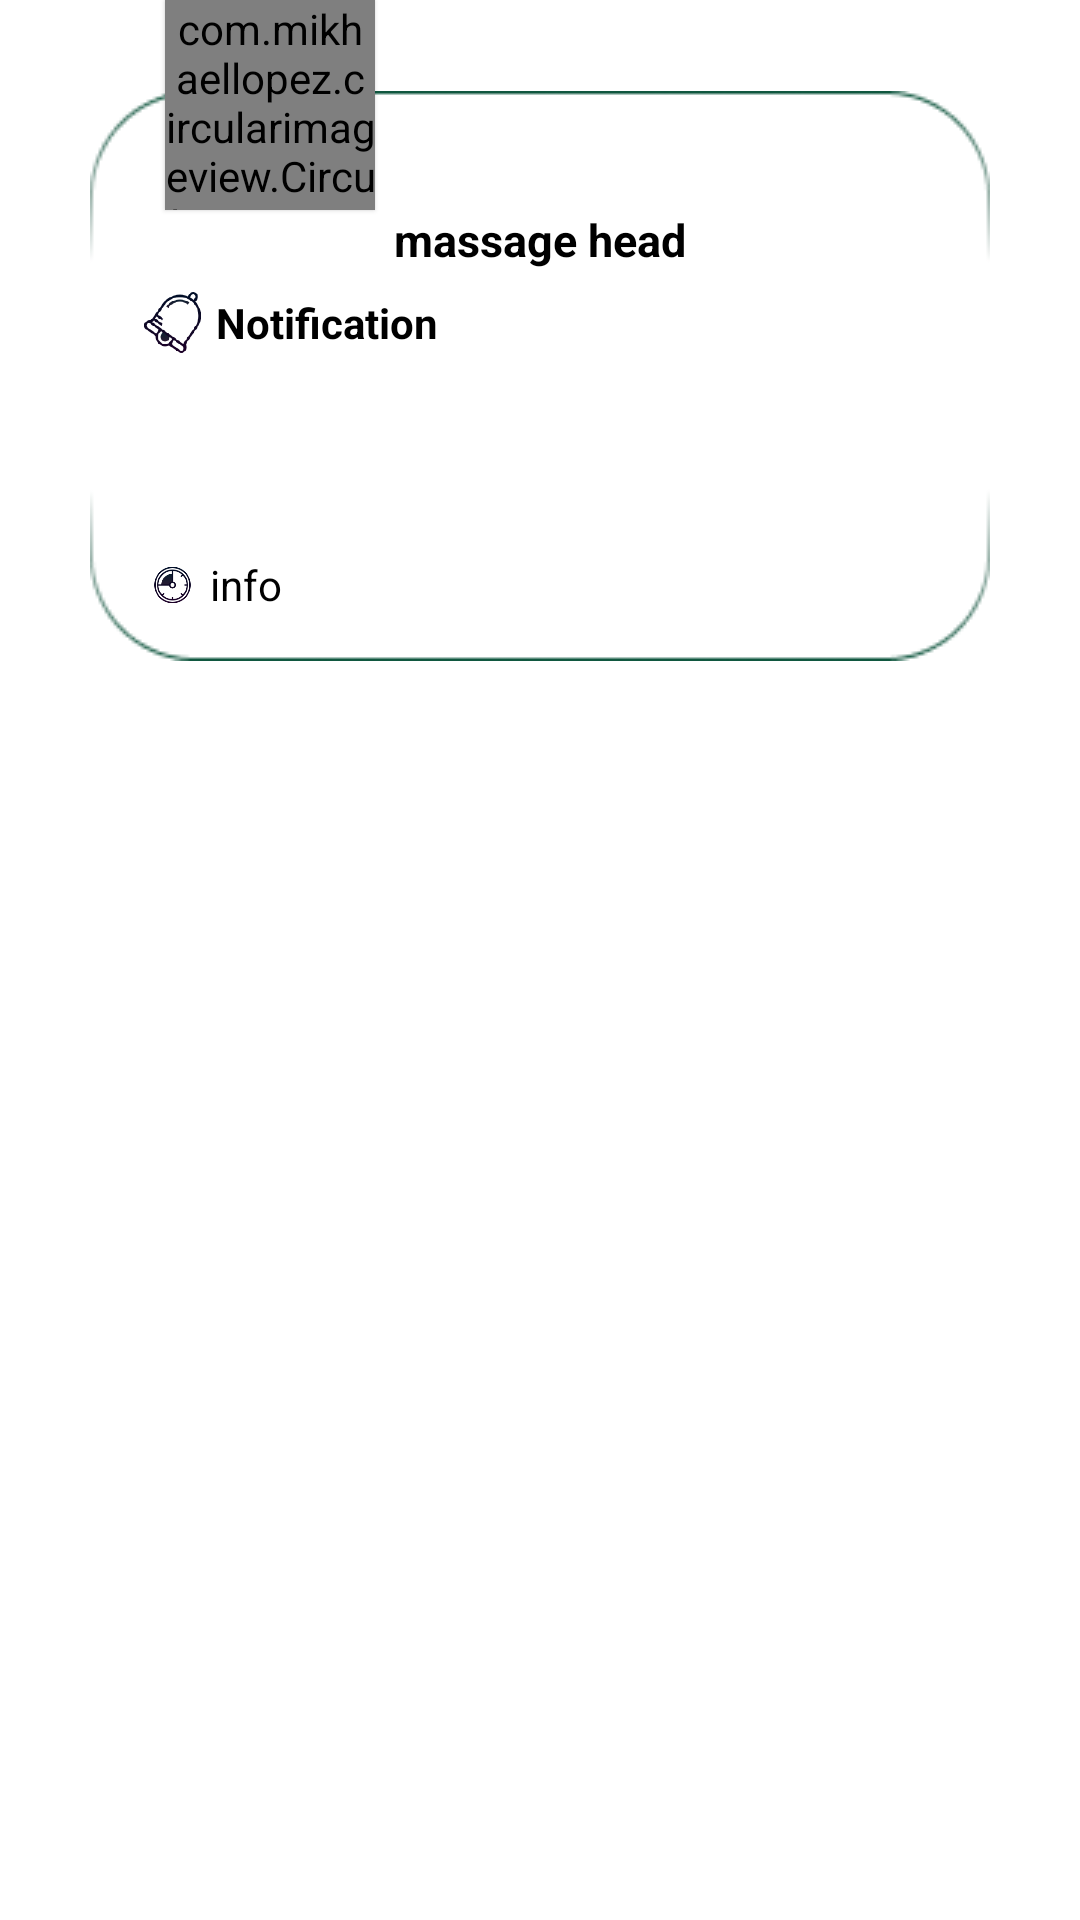

Icon bounding boxes for this 1080px x 1920px phone screenshot, format (x1, y1, x2, y2):
messege not: (144, 292, 201, 353)
